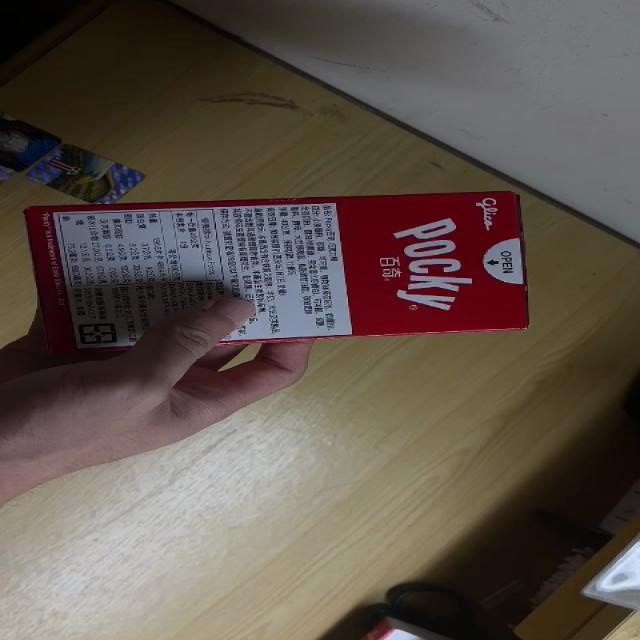Pocky: (25, 191, 530, 362)
